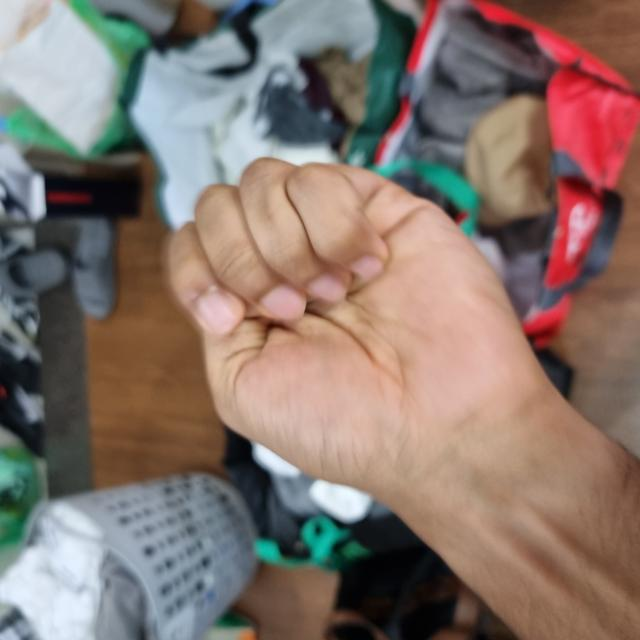Rock: (124, 160, 487, 539)
